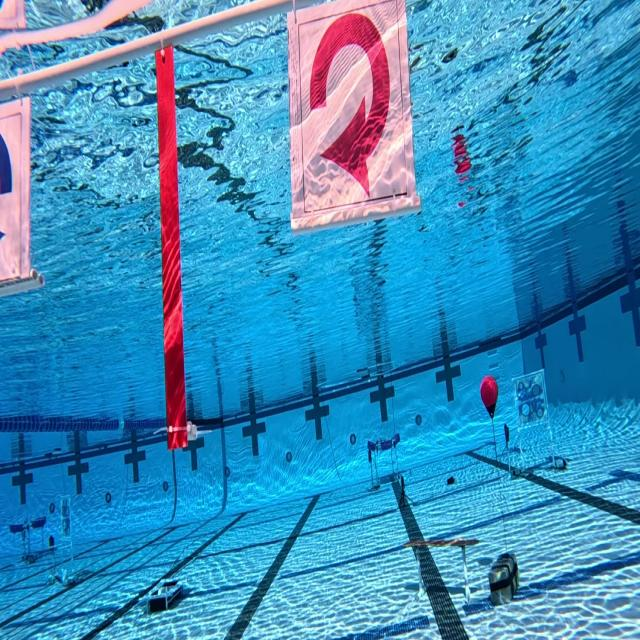red_side: (282, 1, 428, 244)
